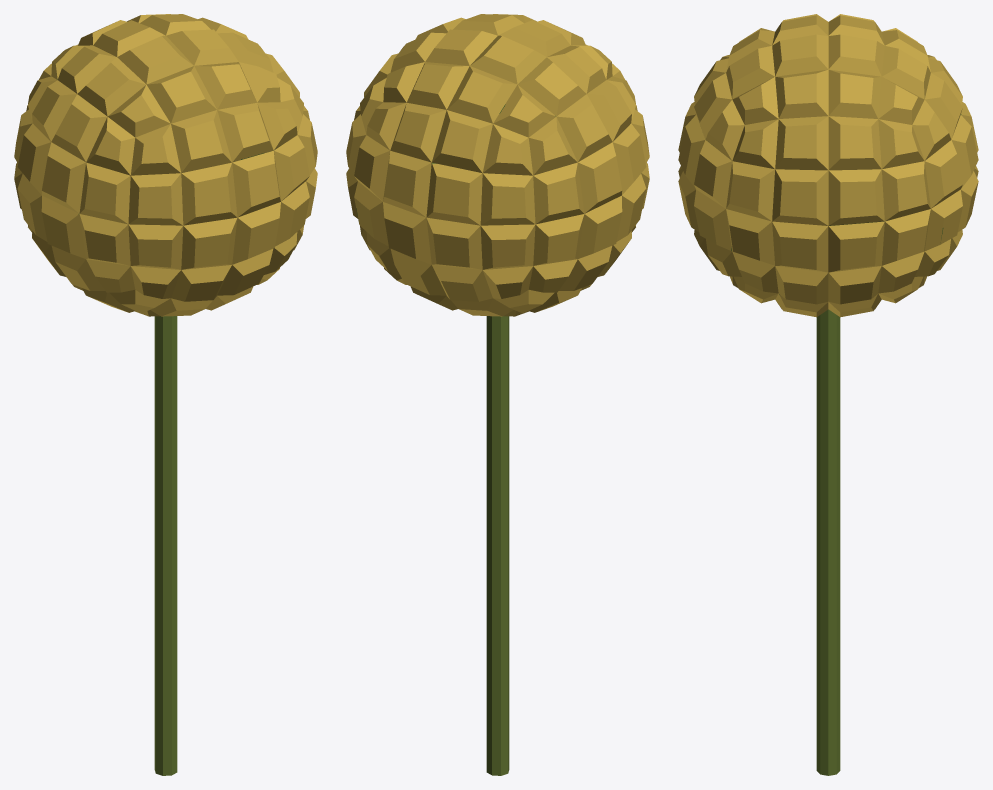
File: BIlly_Buttons.fbx
3 views of the same model, side by side, from view 1: azimuth 30°, elevation 25°; view 2: azimuth 150°, elevation 25°; view 3: azimuth 270°, elevation 25° (orthographic).
Visible parts, largest first — view 1: Cylinder.024; view 2: Cylinder.024; view 3: Cylinder.024.
Boxes of the visible parts, bbox=[...] form: Cylinder.024: bbox=[14, 14, 317, 775]; Cylinder.024: bbox=[346, 14, 649, 775]; Cylinder.024: bbox=[678, 14, 978, 775].
Size of the model in its own units: 178 by 485 by 178.
